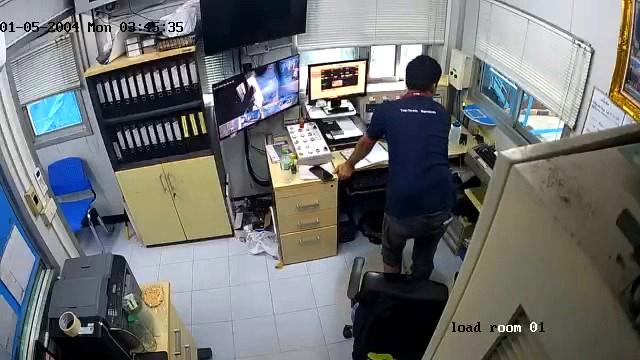Head: (405, 55, 443, 97)
People: (336, 54, 450, 274)
Phone: (308, 165, 334, 181)
